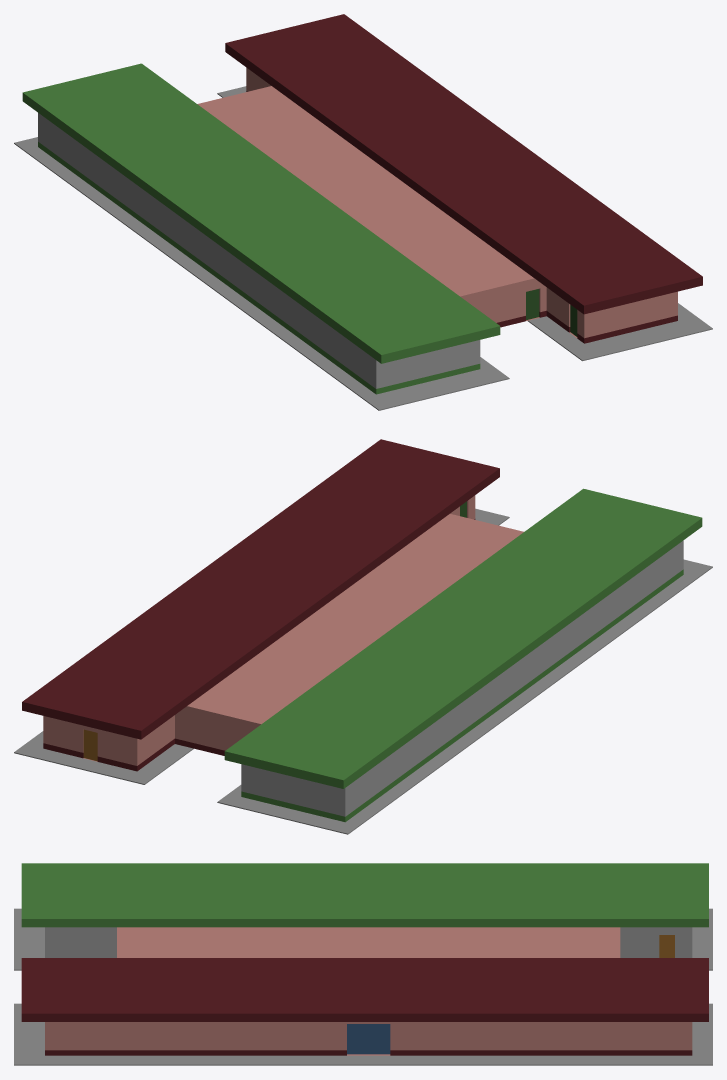
Rendered from ojos.gltf.
The picture shows the model from 3 angles, top to bottom: view 1: azimuth 30°, elevation 25°; view 2: azimuth 150°, elevation 25°; view 3: azimuth 270°, elevation 25°; orthographic projection. The views are drawn at different scales.
Visible parts, largest first — view 1: Cube.003; view 2: Cube.003; view 3: Cube.003.
Boxes of the visible parts, x1,y1,x2,y2 form: Cube.003: [14, 14, 712, 410]; Cube.003: [14, 439, 712, 834]; Cube.003: [14, 863, 712, 1065].
Size of the model in its own units: 25.65 by 3.76 by 48.55.
